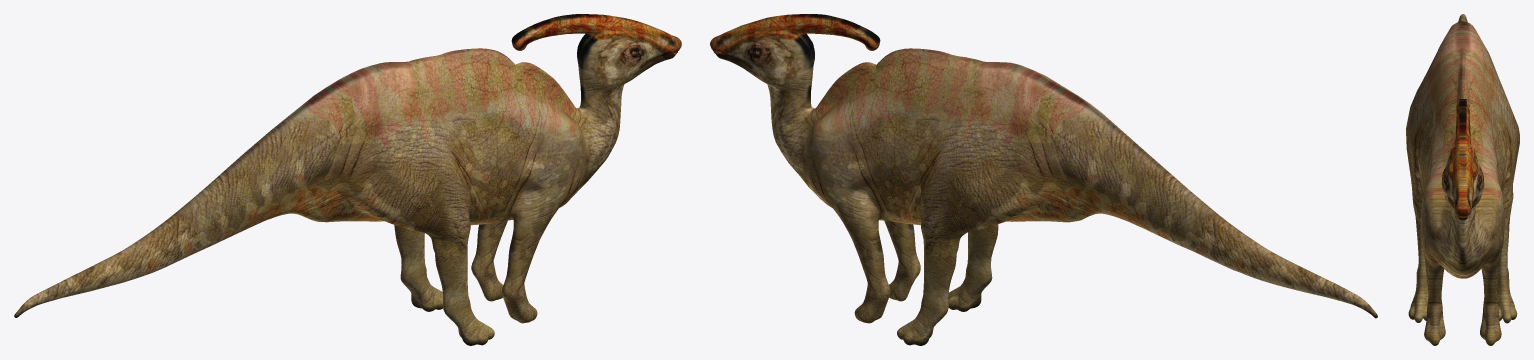
Rendered from parassauro_parado.glb.
The picture shows the model from 3 angles, left to right: view 1: azimuth 30°, elevation 25°; view 2: azimuth 150°, elevation 25°; view 3: azimuth 270°, elevation 25°; orthographic projection. The views are drawn at different scales.
Parts seen in each view (by area): view 1: Object_7_fixo; view 2: Object_7_fixo; view 3: Object_7_fixo.
Part boxes in pixels (x1,y1,x2,y2): Object_7_fixo: (14, 14, 681, 345); Object_7_fixo: (710, 14, 1377, 345); Object_7_fixo: (1406, 14, 1519, 345).
Size of the model in its own units: 7.61 by 3.08 by 1.24.
Materials: 1 (1 with a texture image).
